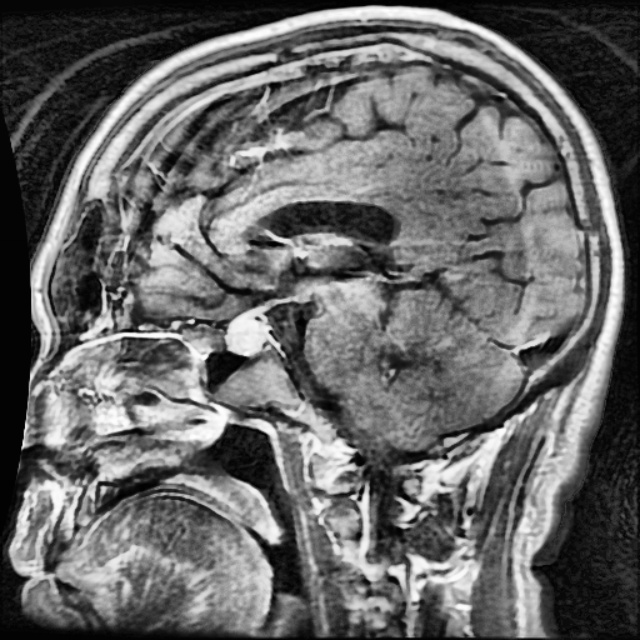Pituitary: (223, 312, 272, 357)
